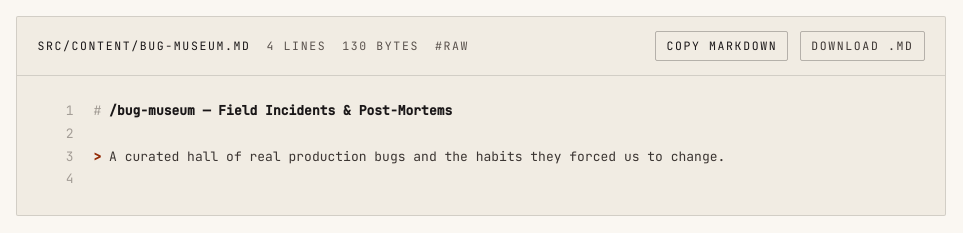
Scenario: EDITORIAL | RAW .MD functional view mode, syntax coloring, dissolve stagger, copy/download, and persistence › provides working "Copy markdown" and "Download .md" buttons in RAW mode
The image size is (963, 233).
What coordinates should you click on to do the following:
click the button with test id "raw-copy-markdown"
I would click on:
 (722, 46)
Its box is 655,31 -> 788,61.
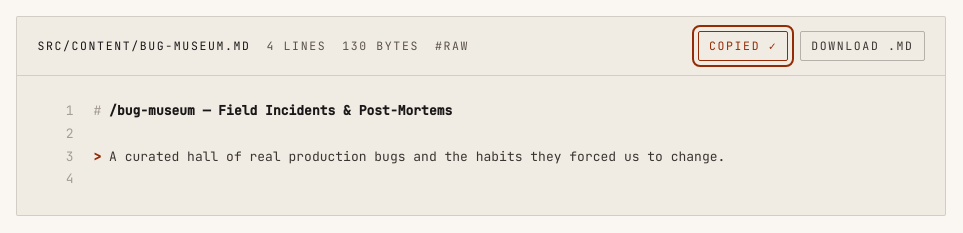
Expected: the button with test id "raw-copy-markdown" shows "Copied", 698,31 -> 788,61
What coordinates should you click on to do the following:
click the button with test id "raw-download-markdown"
I would click on:
 (862, 46)
Its box is 800,31 -> 924,61.
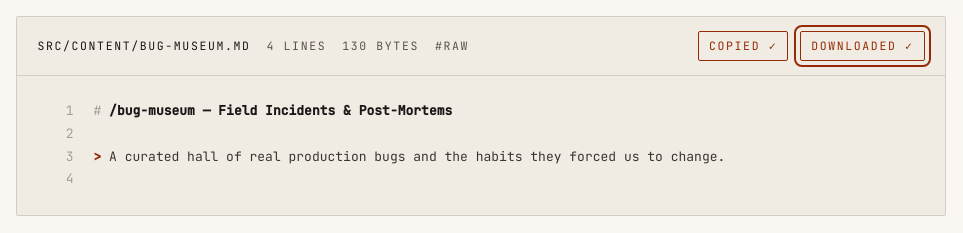
Expected: the button with test id "raw-download-markdown" shows "Downloaded", 800,31 -> 924,61
